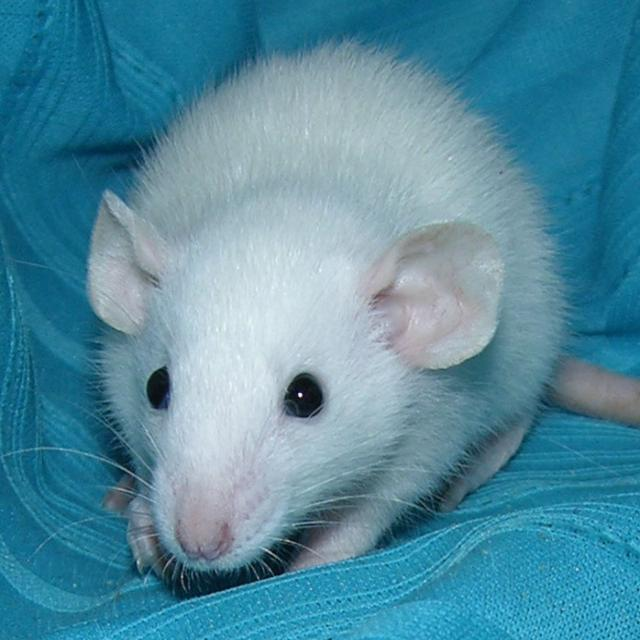rodents: (75, 20, 573, 586)
